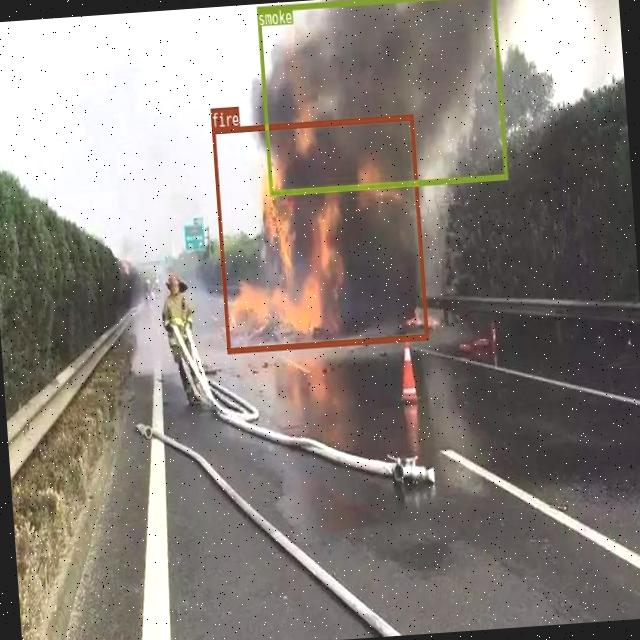fire: (212, 114, 428, 352)
smoke: (255, 0, 507, 194)
